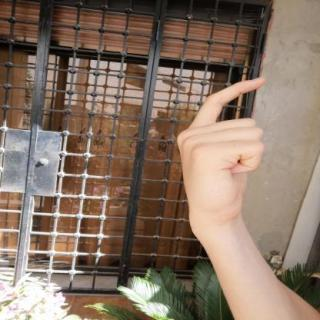RAA: (169, 69, 276, 233)
